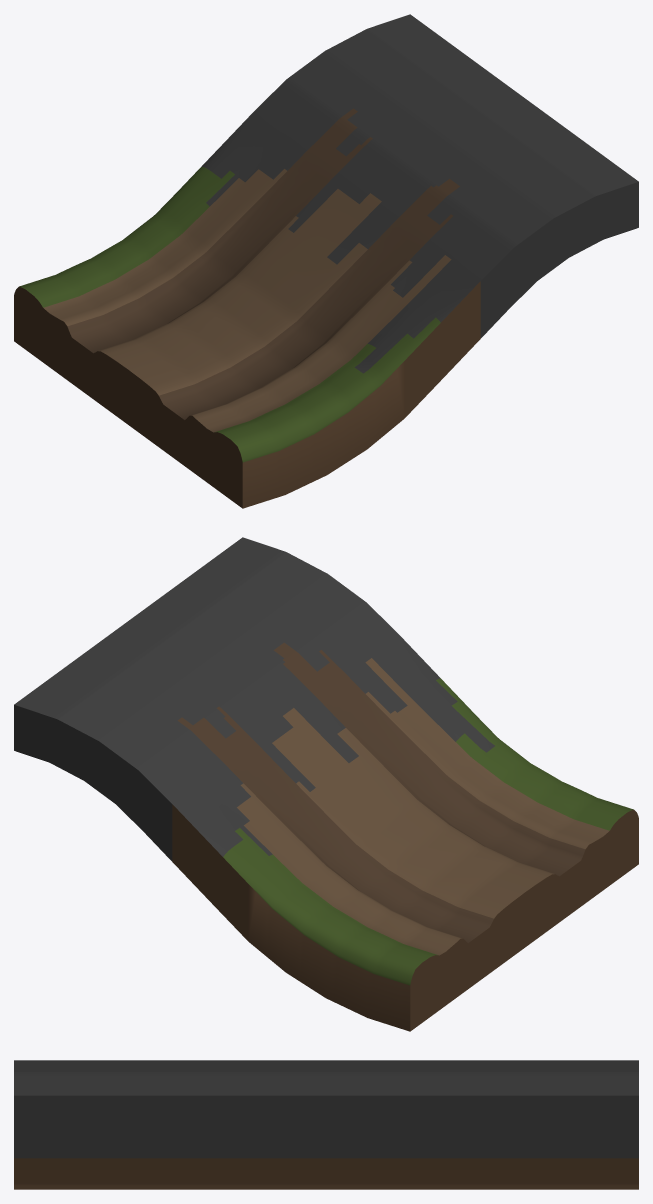
3 renders of one model, top to bottom at view 1: azimuth 30°, elevation 25°; view 2: azimuth 150°, elevation 25°; view 3: azimuth 270°, elevation 25°, orthographic. The views are drawn at different scales.
Parts seen in each view (by area): view 1: c2t; view 2: c2t; view 3: c2t.
Boxes of the visible parts, x1=… form: c2t: x1=14, y1=14, x2=638, y2=508; c2t: x1=14, y1=537, x2=638, y2=1031; c2t: x1=14, y1=1060, x2=638, y2=1189.
Bounding box in the file's own units: 9 × 5 × 9.
